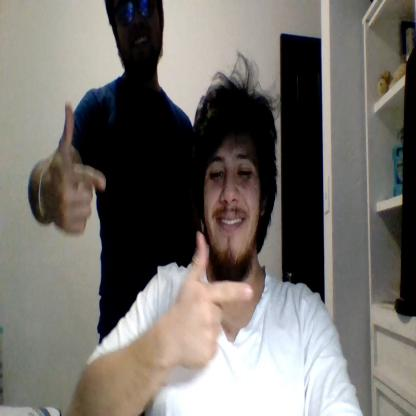G: (170, 232, 254, 366), (49, 103, 105, 235)
